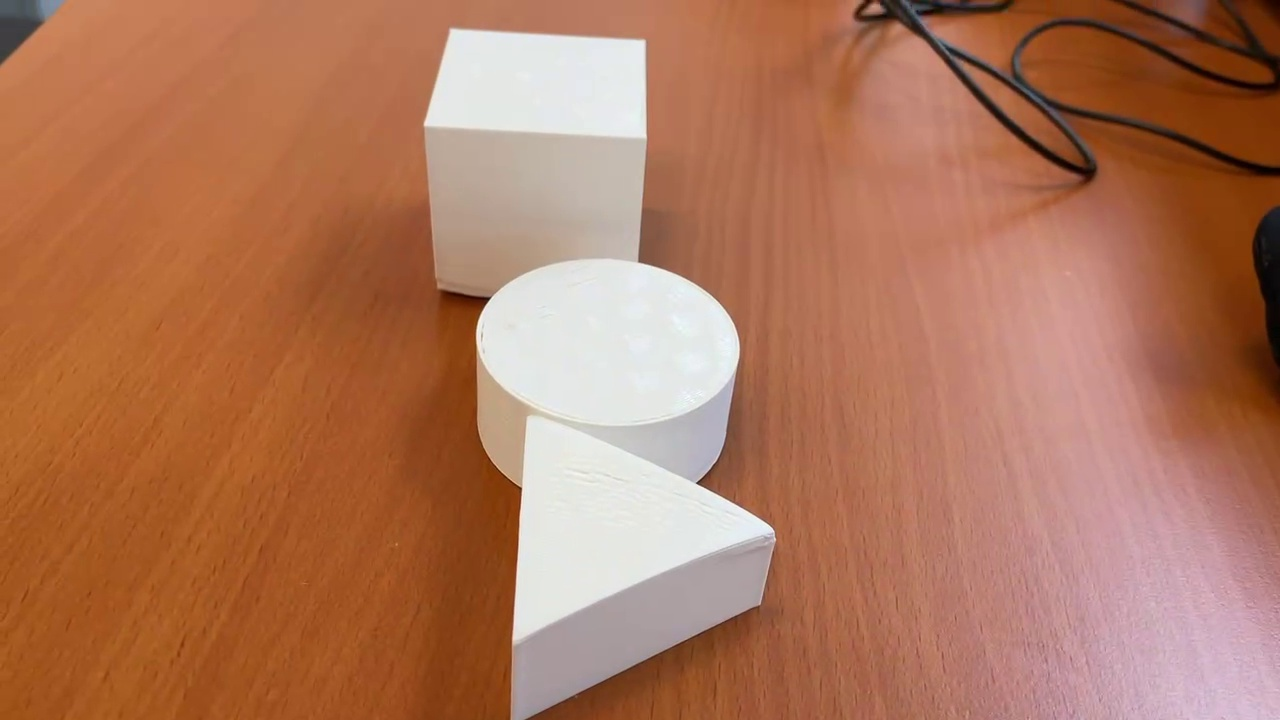Cube: (417, 23, 651, 308)
Cylinder_short: (472, 258, 741, 491)
Triangle_short: (506, 416, 776, 720)
